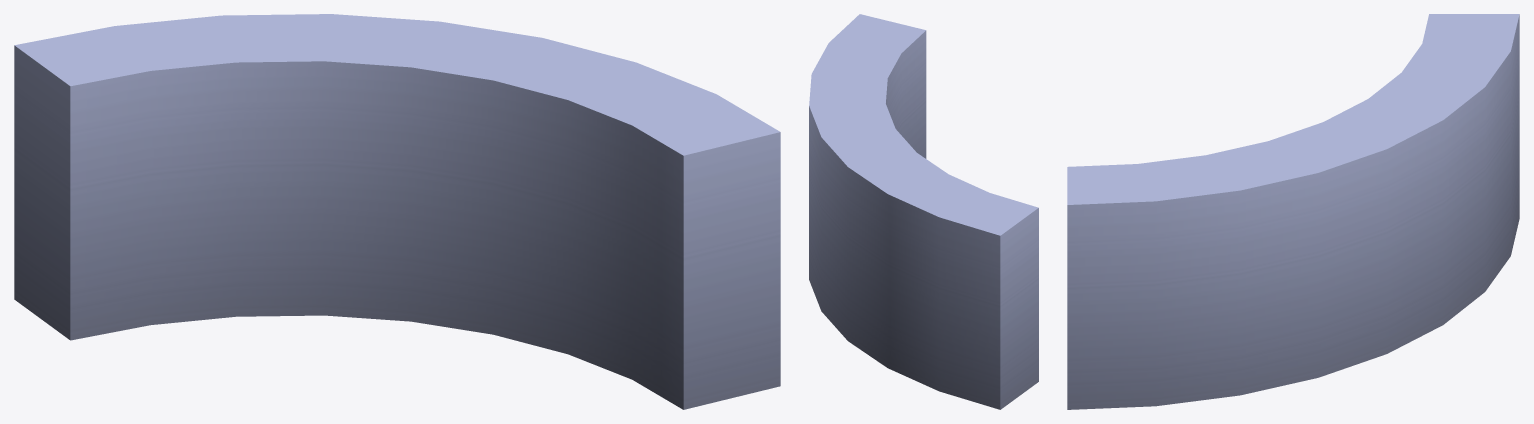
The model's file is wall-round-low.fbx.
The picture shows the model from 3 angles, left to right: view 1: azimuth 30°, elevation 25°; view 2: azimuth 150°, elevation 25°; view 3: azimuth 270°, elevation 25°; orthographic projection. The views are drawn at different scales.
Visible parts, largest first — view 1: wall-round-low; view 2: wall-round-low; view 3: wall-round-low.
Part boxes in pixels (x1,y1,x2,y2): wall-round-low: (14,14,780,409); wall-round-low: (809,14,1038,409); wall-round-low: (1067,14,1519,409).
Size of the model in its own units: 100 by 50 by 100.
